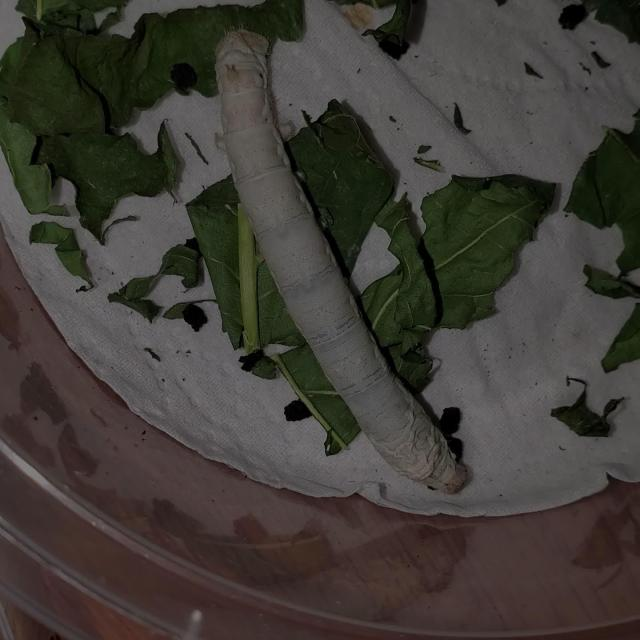Healthy: (164, 6, 498, 527)
